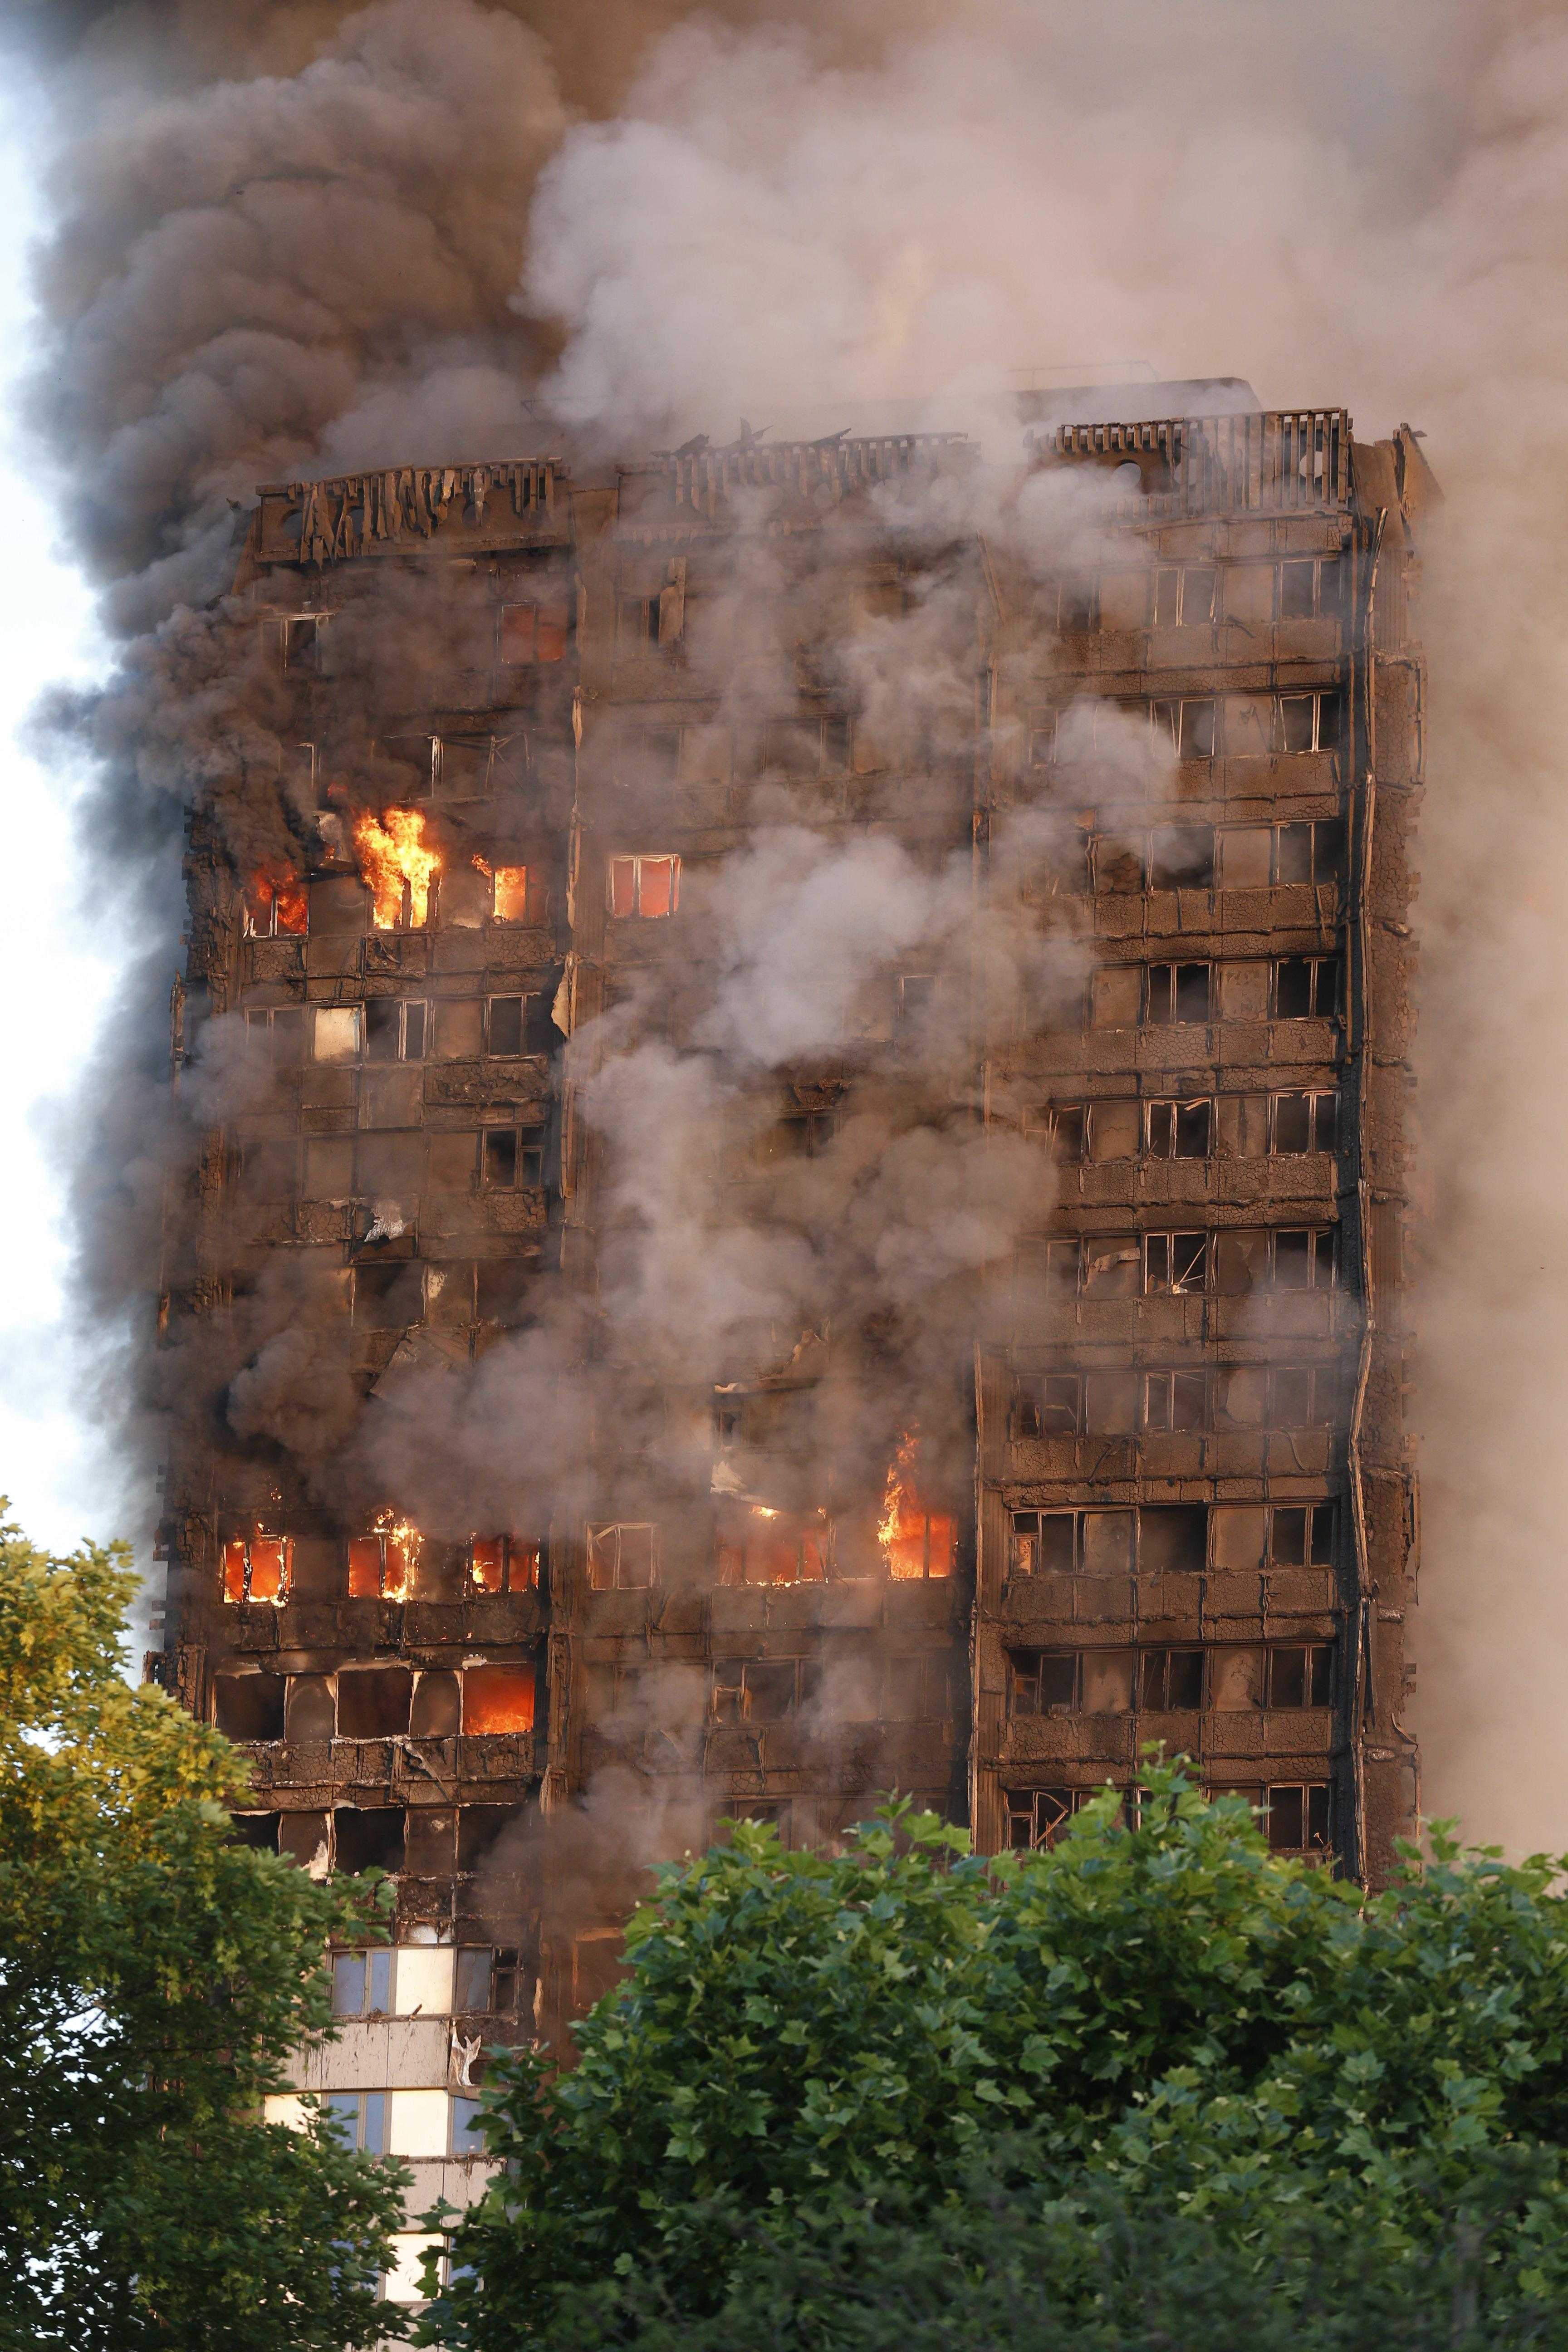Fire: (203, 1461, 1036, 1741), (215, 754, 661, 975)
